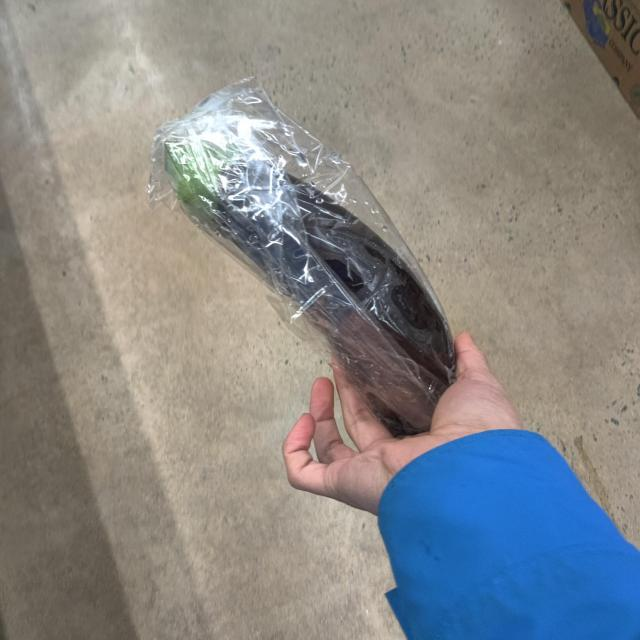Eggplant: (141, 120, 461, 442)
